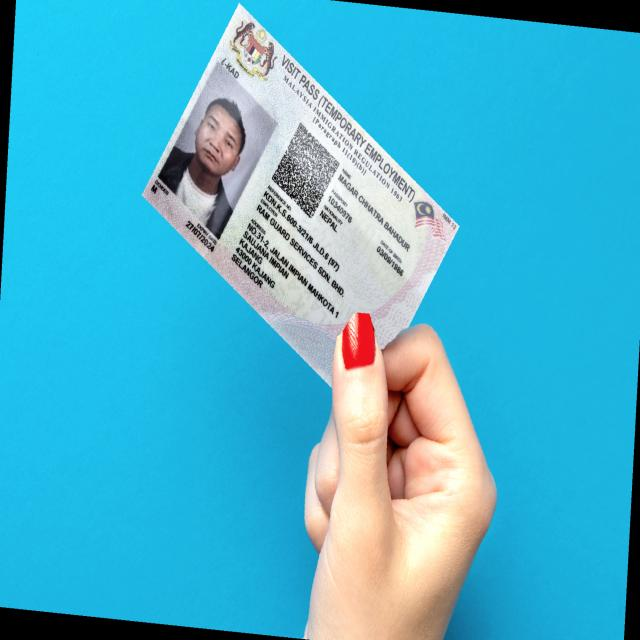ikad-temp: (141, 1, 460, 391)
